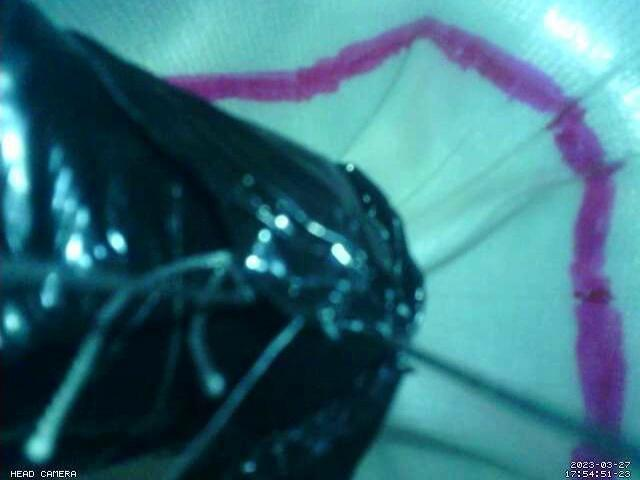red-circle: (166, 15, 629, 480)
